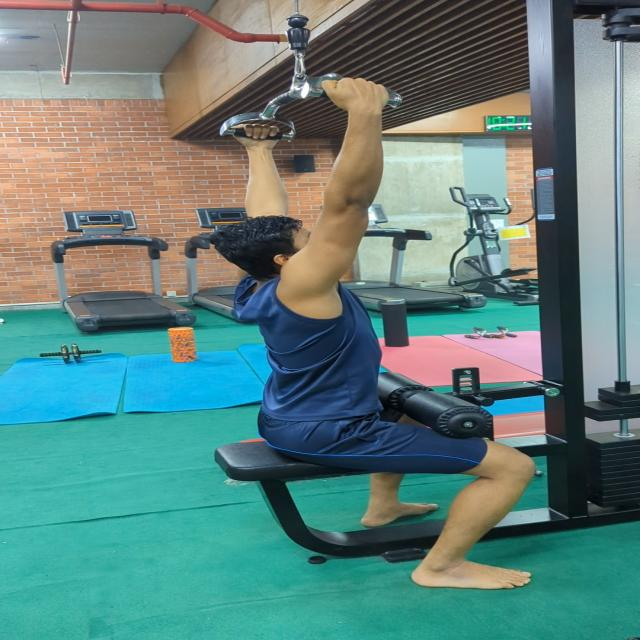Normal_LatPulldown: (207, 68, 598, 595)
